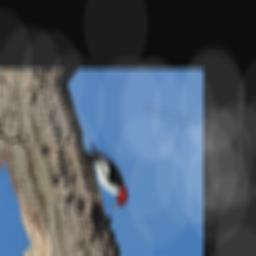Woodpecker: (70, 136, 141, 220)
